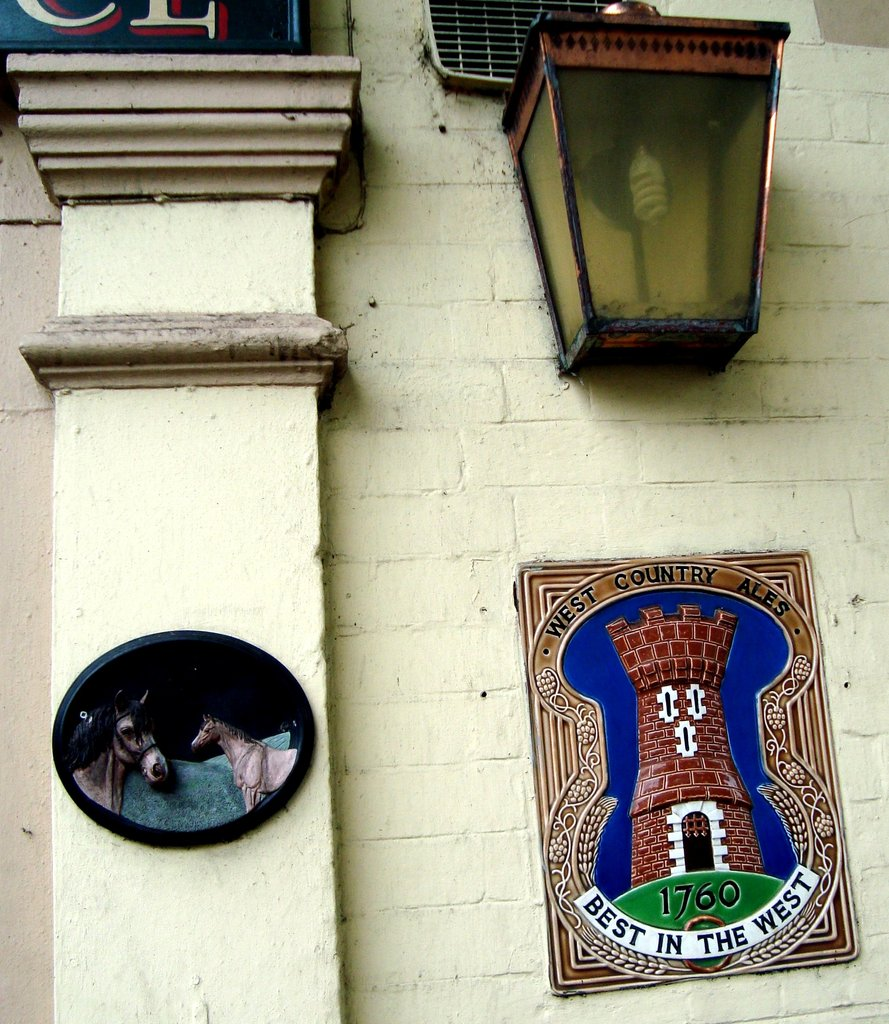Animal: (63, 686, 167, 812), (192, 717, 297, 811)
